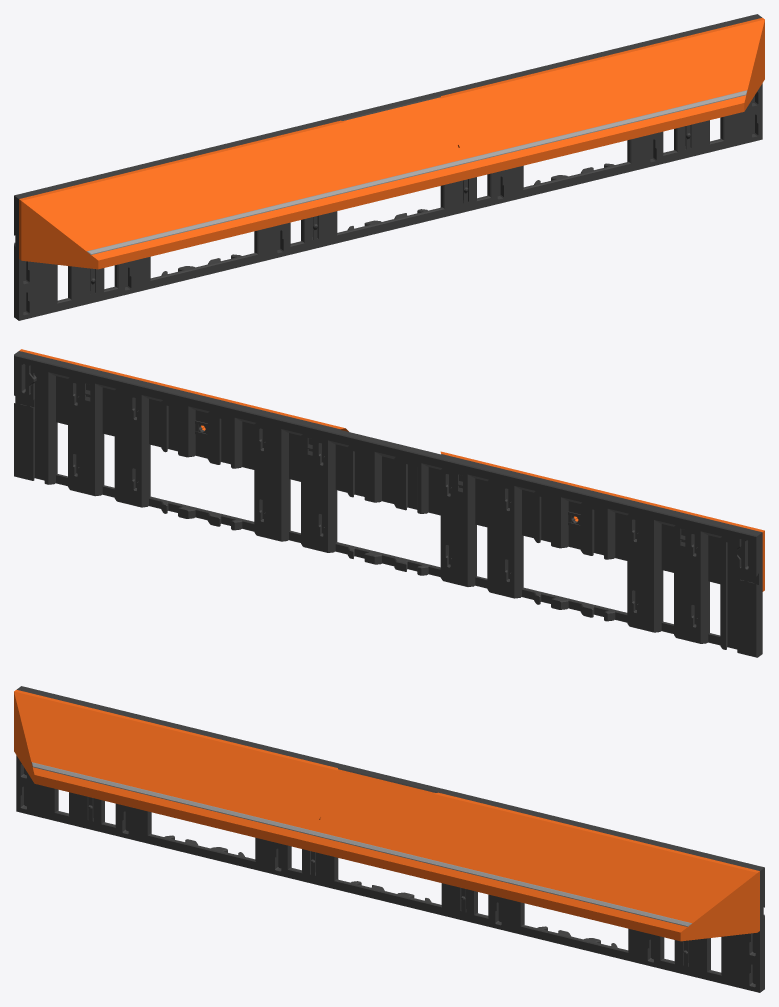
The model's file is Faceplate_ClassicPro_4W-1H.lib.glb.
The picture shows the model from 3 angles, top to bottom: view 1: azimuth 30°, elevation 25°; view 2: azimuth 150°, elevation 25°; view 3: azimuth 330°, elevation 25°; orthographic projection.
Visible parts, largest first — view 1: Faceplate_ClassicPro_4W-1H; view 2: Faceplate_ClassicPro_4W-1H; view 3: Faceplate_ClassicPro_4W-1H.
Boxes of the visible parts, left/top/right/bottom form: Faceplate_ClassicPro_4W-1H: left=14, top=14, right=764, bottom=320; Faceplate_ClassicPro_4W-1H: left=14, top=349, right=764, bottom=657; Faceplate_ClassicPro_4W-1H: left=14, top=686, right=764, bottom=992.
Size of the model in its own units: 351 by 54.97 by 29.48.
